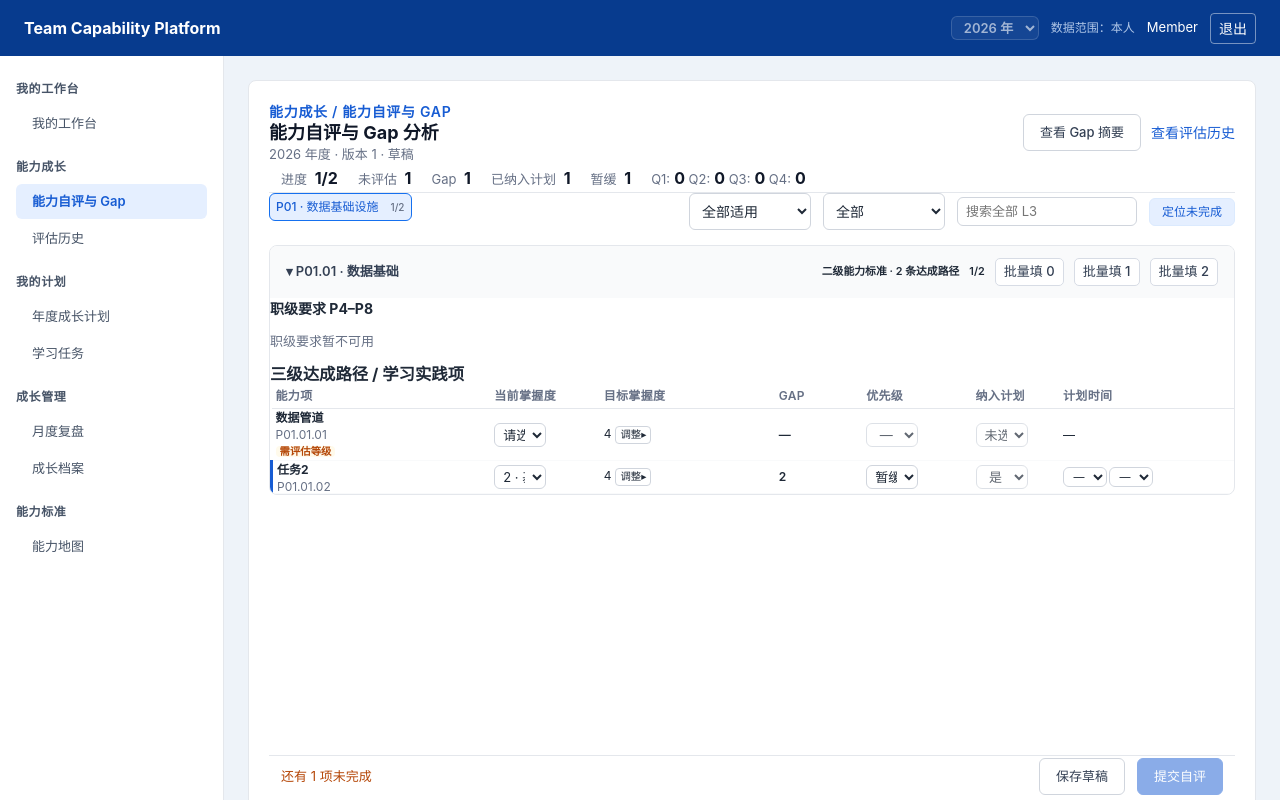
Scenario: AssessmentGapPage › filters work: 未评估, 有Gap, 已纳入计划, 暂缓
Expected: the heading "能力自评与 Gap 分析" is shown, [269, 122, 451, 144]
Select "未评估" in the dropdown with test id "status-filter" at {"x": 884, "y": 212}, box [823, 193, 945, 230]
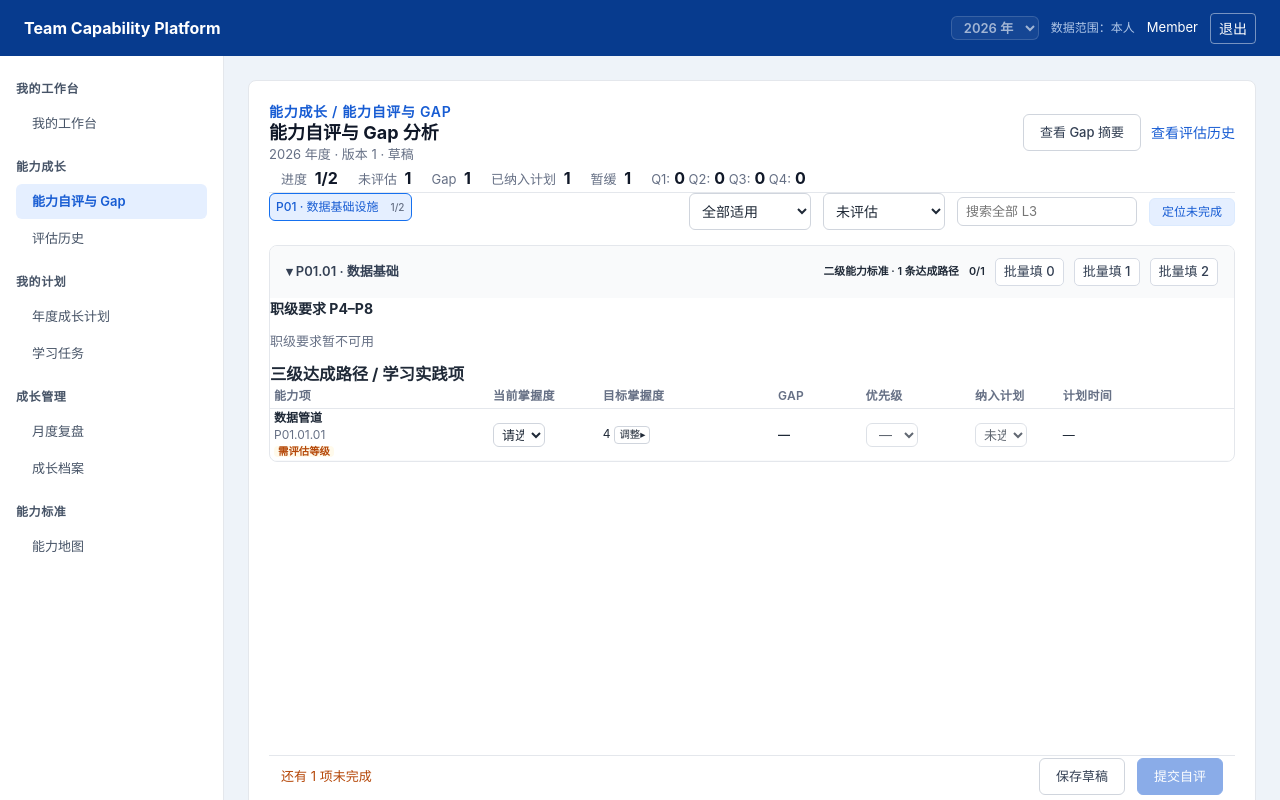
Expected: the text "数据管道" is shown, [274, 410, 322, 426]
Expected: the text "任务2" is gone
Select "有Gap" in the dropdown with test id "status-filter" at {"x": 884, "y": 212}, box [823, 193, 945, 230]
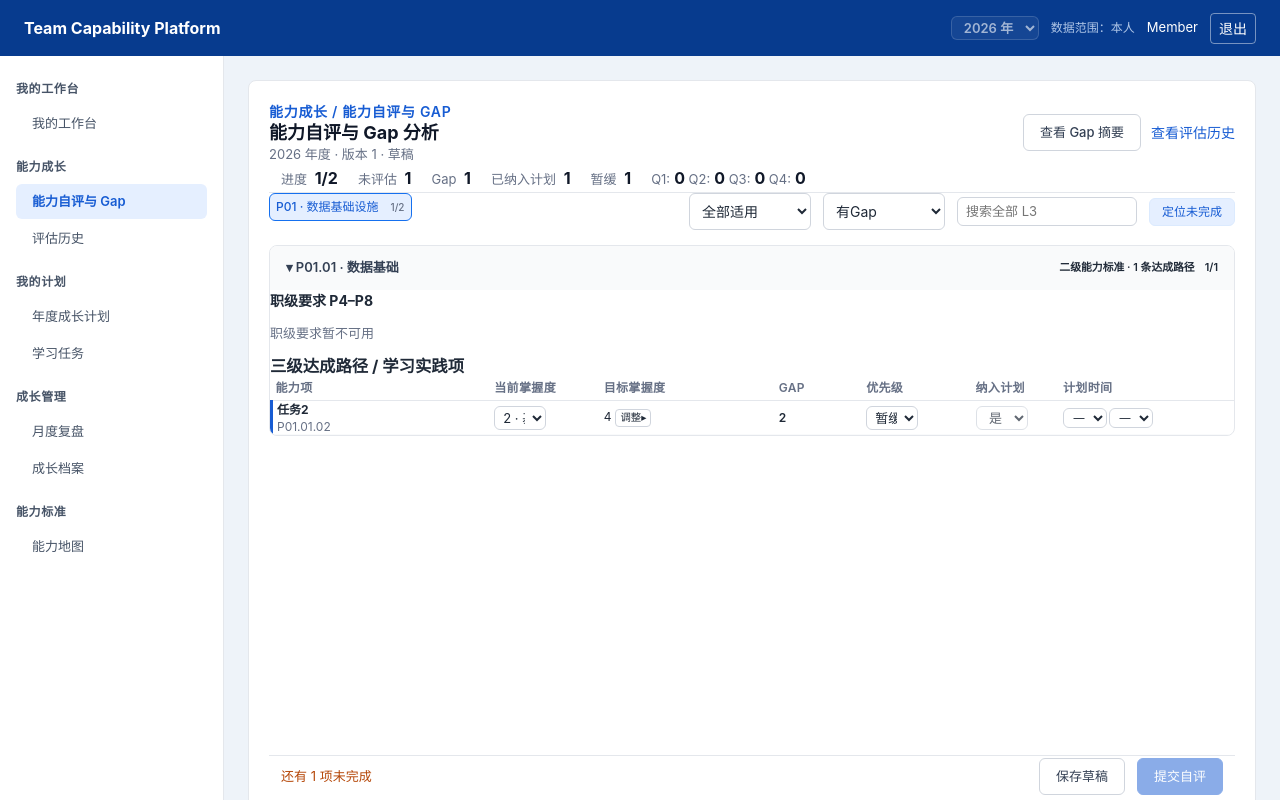
Expected: the text "任务2" is shown, [277, 402, 309, 418]
Select "已纳入计划" in the dropdown with test id "status-filter" at {"x": 884, "y": 212}, box [823, 193, 945, 230]
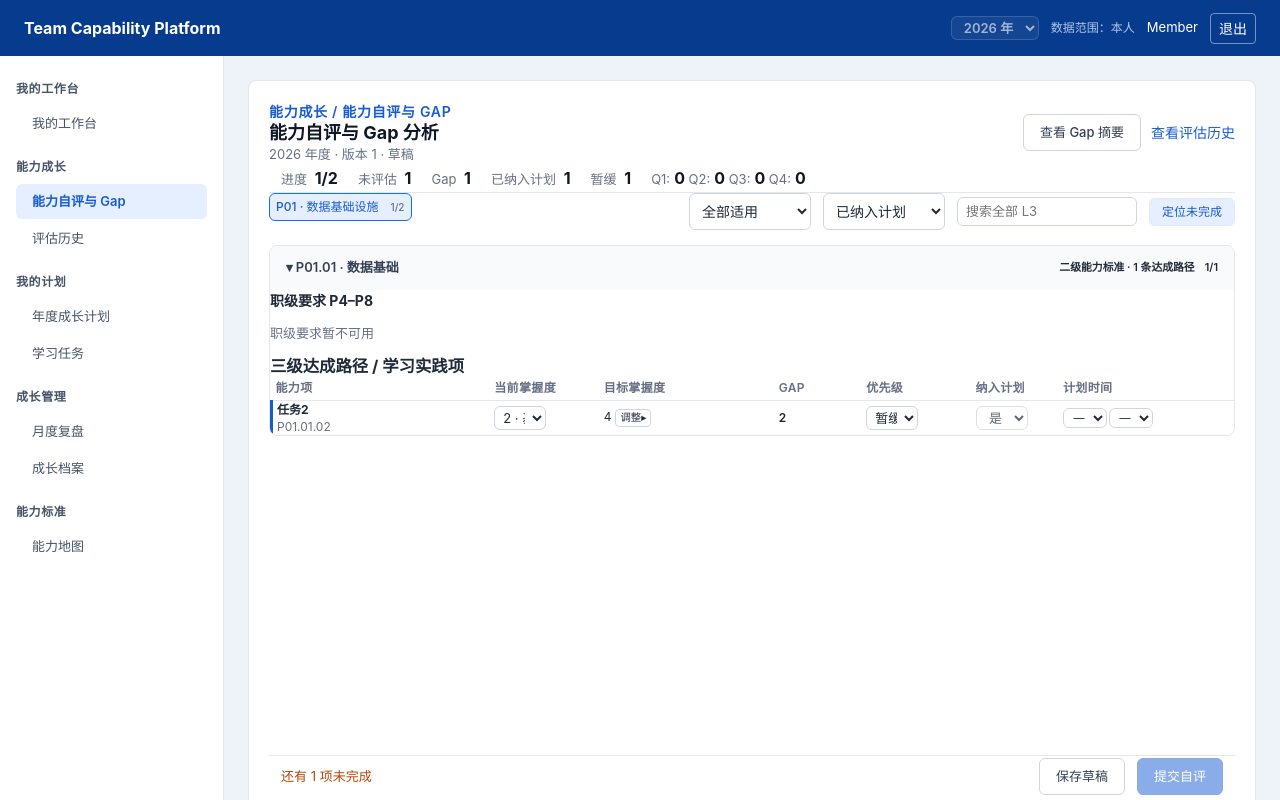
Expected: the text "任务2" is shown, [277, 402, 309, 418]
Select "暂缓" in the dropdown with test id "status-filter" at {"x": 884, "y": 212}, box [823, 193, 945, 230]
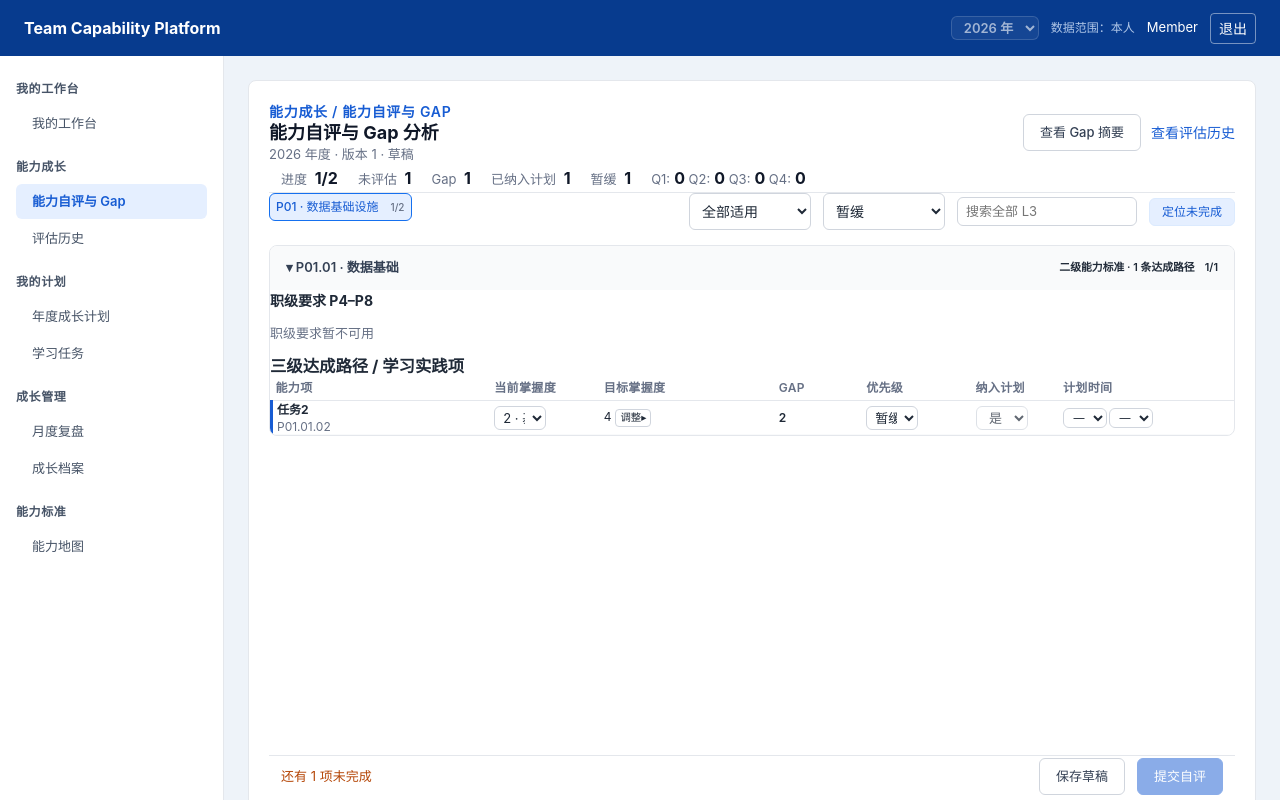
Expected: the text "任务2" is shown, [277, 402, 309, 418]
Select "全部" in the dropdown with test id "status-filter" at {"x": 884, "y": 212}, box [823, 193, 945, 230]
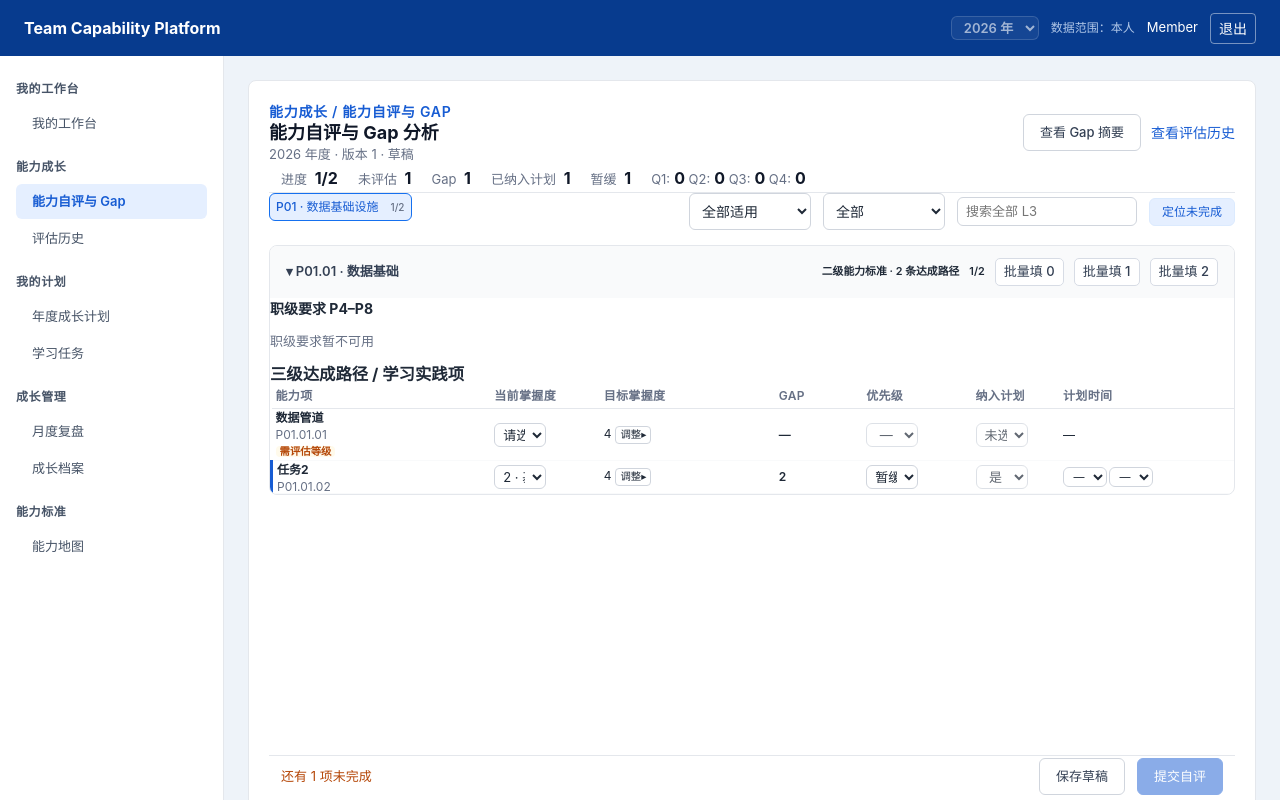
Expected: the text "任务2" is shown, [277, 462, 309, 477]
Expected: the text "数据管道" is shown, [276, 410, 324, 426]
